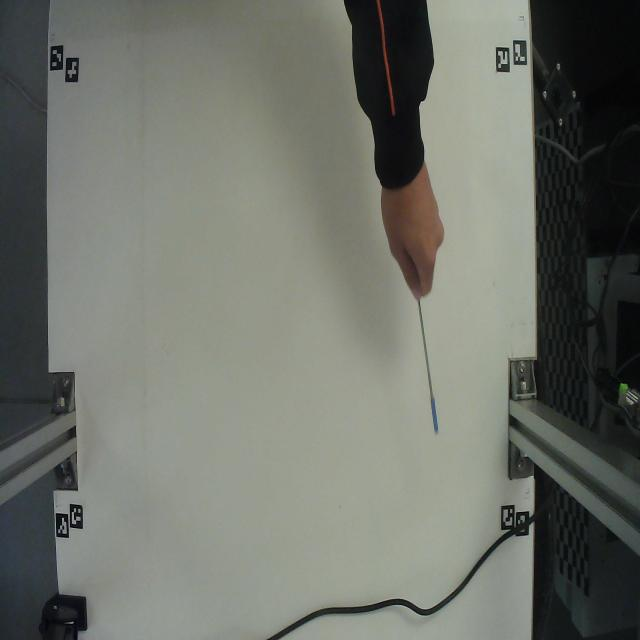NoPres: (404, 282, 456, 450)
